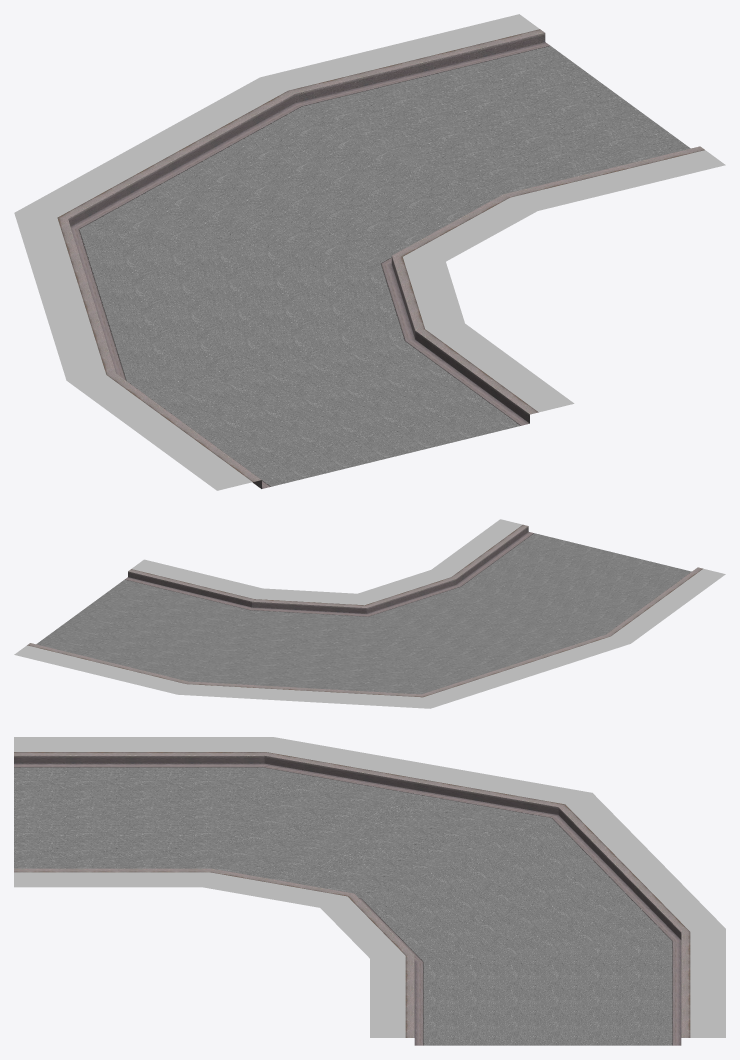
Rendered from roada6.dae.
The picture shows the model from 3 angles, top to bottom: view 1: azimuth 30°, elevation 25°; view 2: azimuth 150°, elevation 25°; view 3: azimuth 270°, elevation 25°; orthographic projection. The views are drawn at different scales.
Visible parts, largest first — view 1: S_Object_001_5, S_Object_001, S_Object_001_1, S_Object_001_3, S_Object_001_2, S_Object_001_4; view 2: S_Object_001_5, S_Object_001, S_Object_001_1, S_Object_001_2, S_Object_001_3, S_Object_001_6; view 3: S_Object_001_5, S_Object_001, S_Object_001_1, S_Object_001_3, S_Object_001_2, S_Object_001_4.
Part boxes in pixels (bbox=[...]): S_Object_001_5: bbox=[81, 46, 690, 486]; S_Object_001: bbox=[14, 14, 725, 490]; S_Object_001_1: bbox=[57, 29, 704, 481]; S_Object_001_3: bbox=[71, 42, 549, 488]; S_Object_001_2: bbox=[68, 33, 545, 488]; S_Object_001_4: bbox=[79, 46, 551, 486]; S_Object_001_5: bbox=[36, 533, 690, 694]; S_Object_001: bbox=[14, 519, 725, 708]; S_Object_001_1: bbox=[27, 524, 702, 697]; S_Object_001_2: bbox=[128, 526, 528, 613]; S_Object_001_3: bbox=[125, 531, 533, 616]; S_Object_001_6: bbox=[124, 533, 534, 617]; S_Object_001_5: bbox=[14, 768, 670, 1045]; S_Object_001: bbox=[14, 737, 725, 1037]; S_Object_001_1: bbox=[14, 752, 690, 1037]; S_Object_001_3: bbox=[14, 763, 681, 1045]; S_Object_001_2: bbox=[14, 756, 681, 939]; S_Object_001_4: bbox=[14, 767, 672, 1045].
Size of the model in its own units: 4 by 0.05 by 4.
